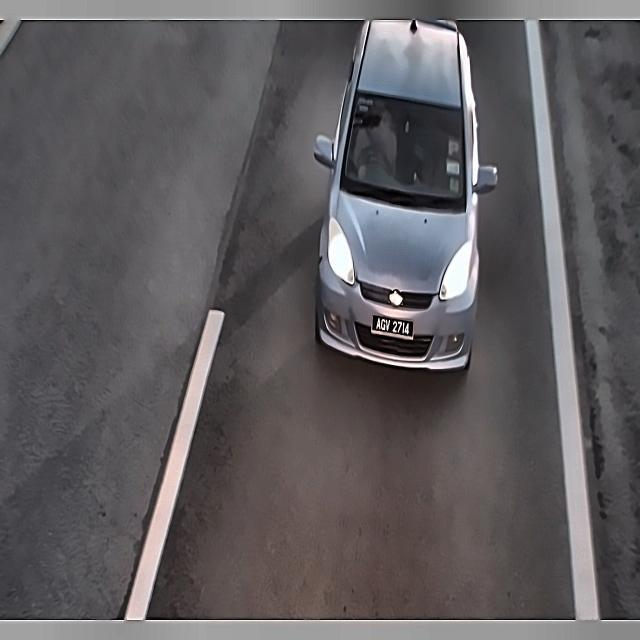car: (368, 309, 420, 344)
